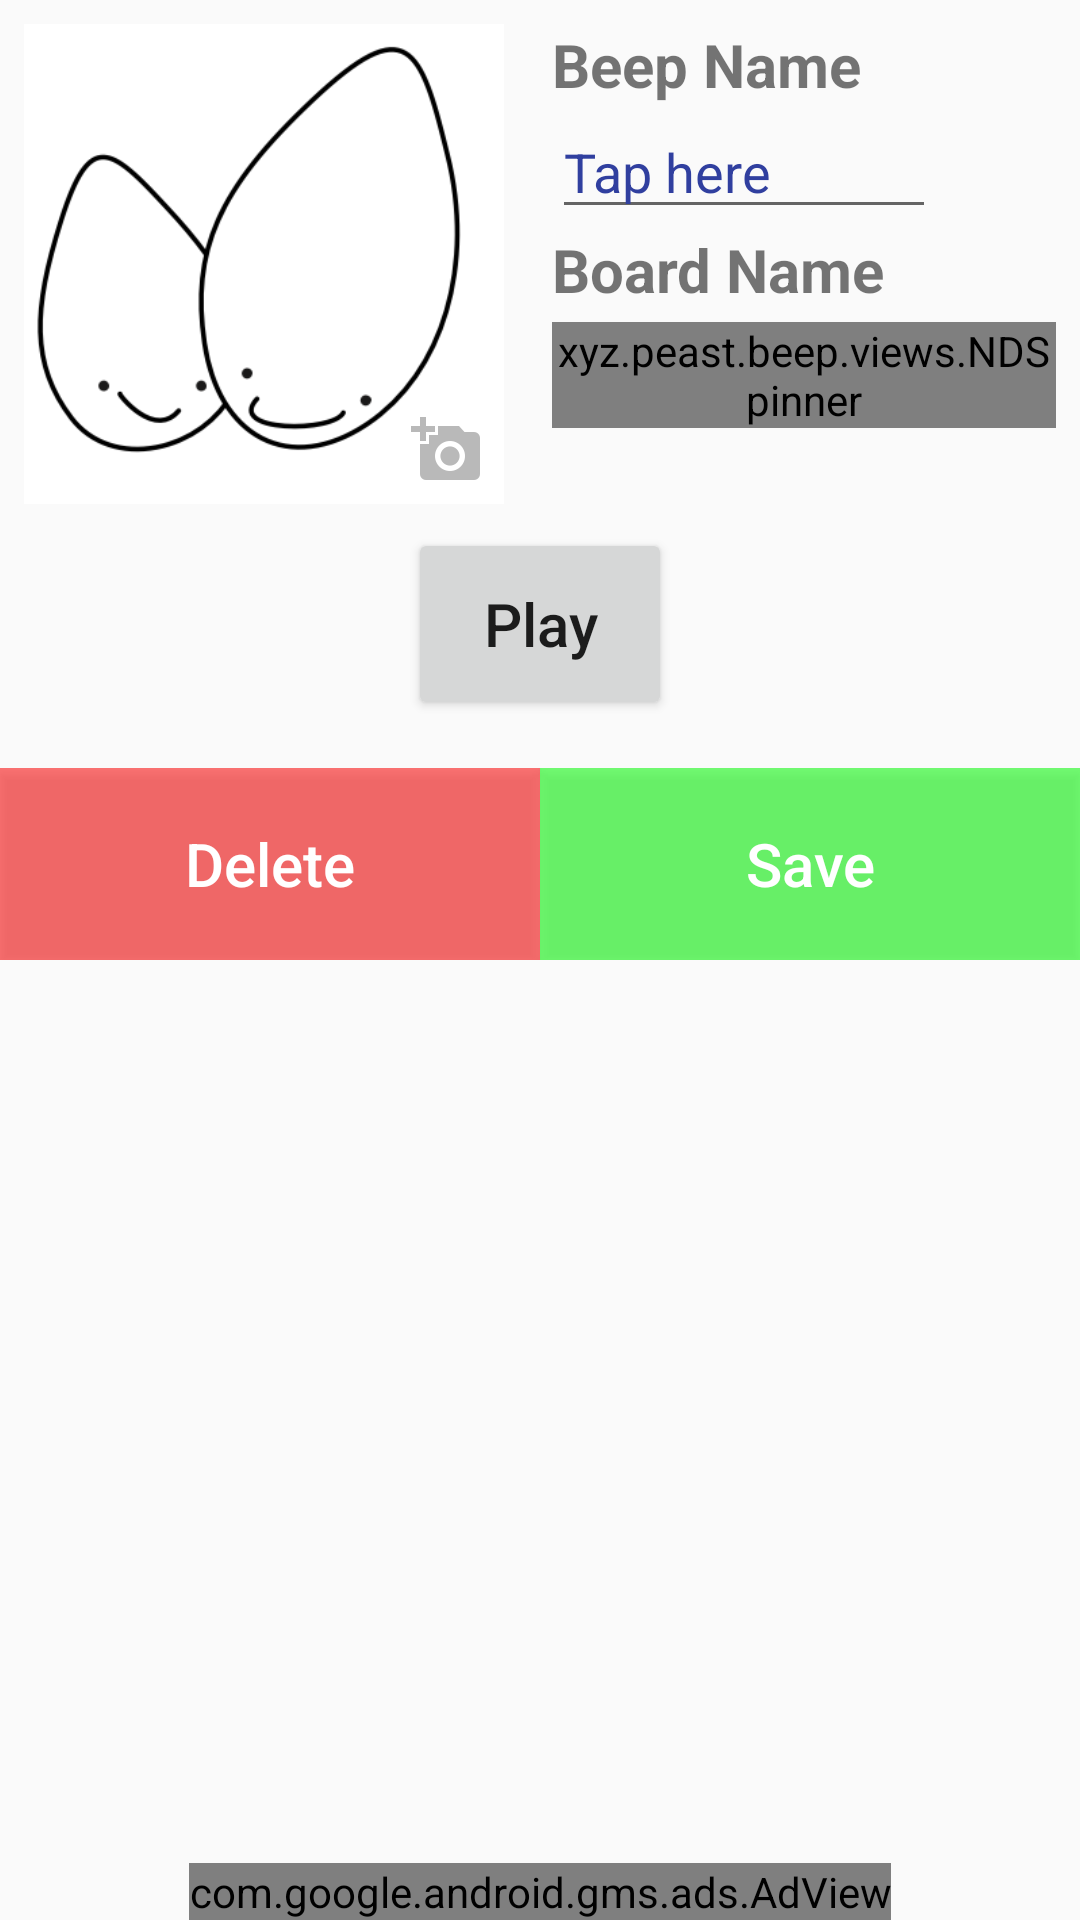

Screen size 1080w x 1920h. Icon name, then its center in pixels as point (x, y):
add photo: point (445, 448)
